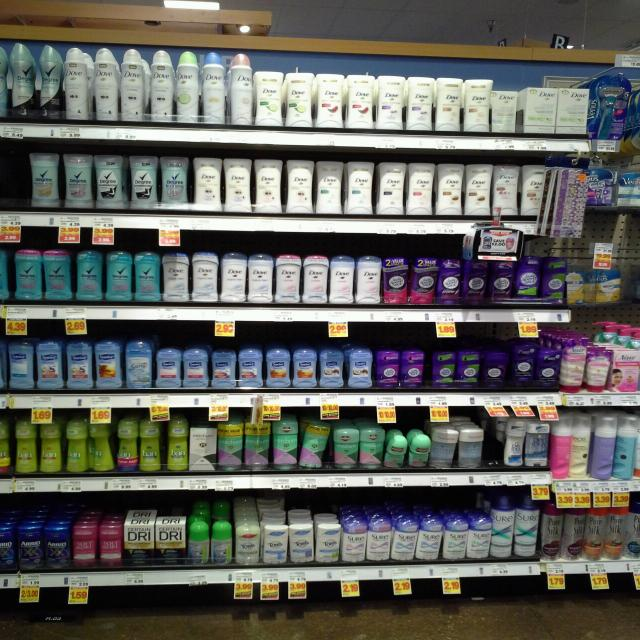unorganised: (385, 430, 430, 468), (592, 412, 616, 482), (299, 416, 330, 469), (549, 413, 572, 480), (88, 416, 114, 473)
